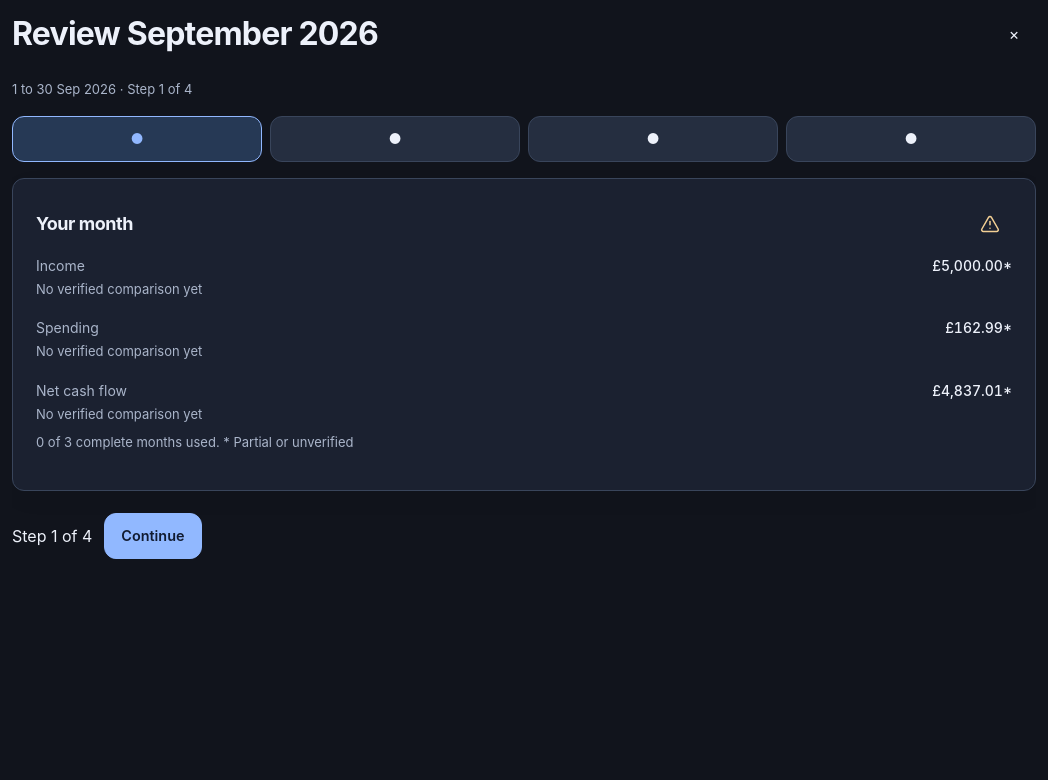
Test case: explains an actual price rise in the next period instead of moving it into the selected review
This screenshot has width=1048, height=780.
Click the button named "2. What changed" at (395,138), box [270,116,520,162]
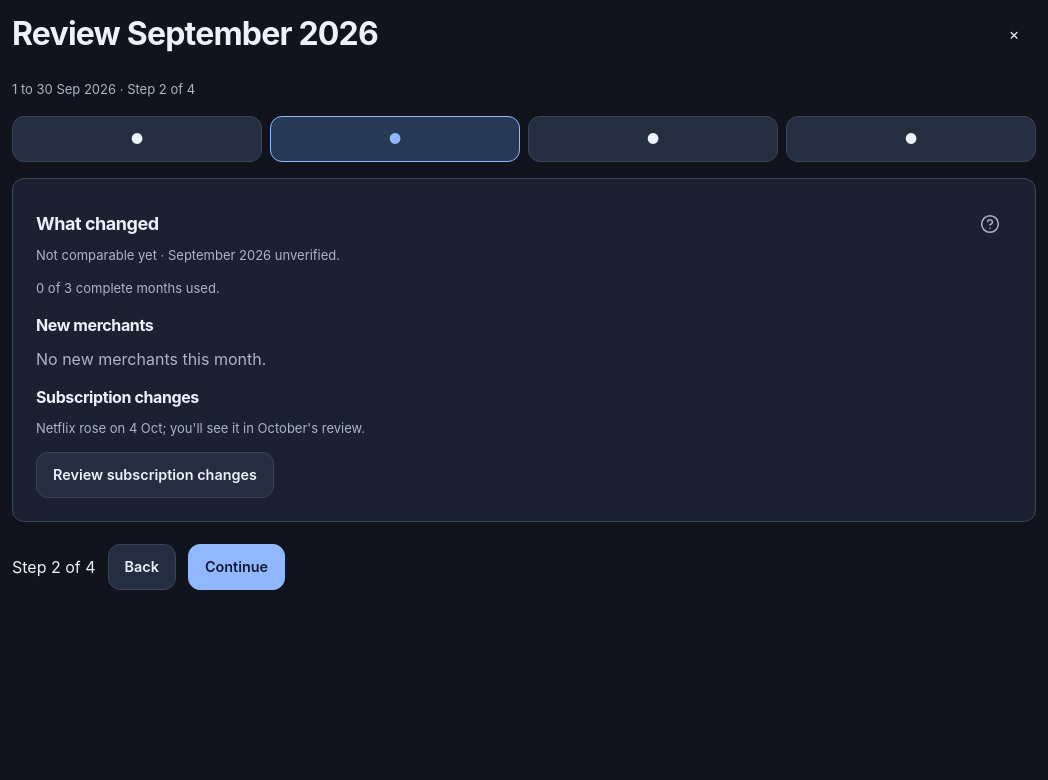
Now the text "Netflix rose on 4 Oct; you'll see it in October's review." is shown, box [36,420,365,436]
